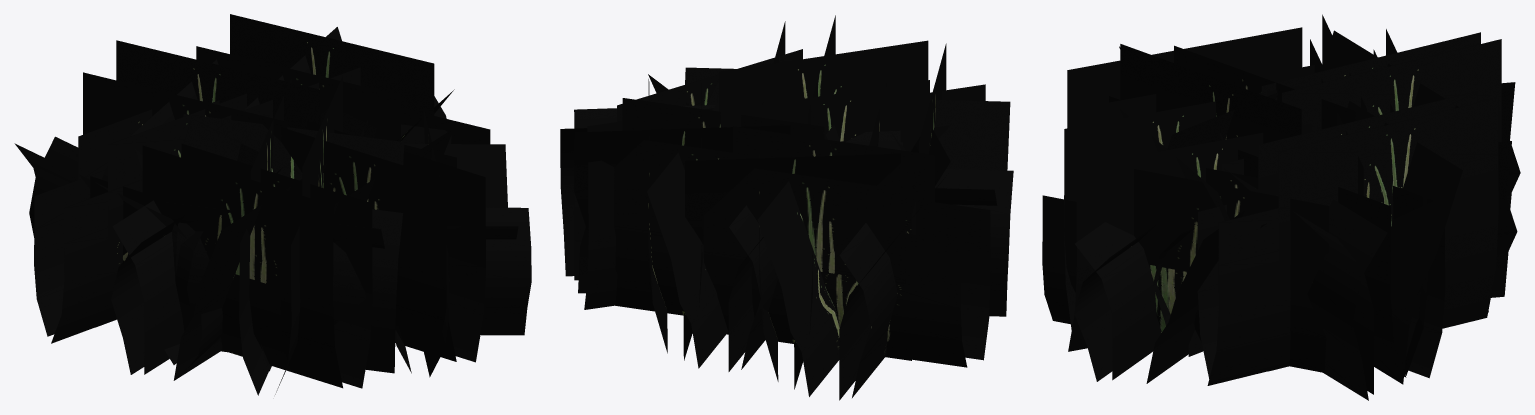
Rendered from detailed_grass_-_by_lemstrx.glb.
3 renders of one model, left to right at view 1: azimuth 30°, elevation 25°; view 2: azimuth 150°, elevation 25°; view 3: azimuth 270°, elevation 25°, orthographic. The views are drawn at different scales.
Parts seen in each view (by area): view 1: Grass_1.012; view 2: Grass_1.012; view 3: Grass_1.012.
Boxes of the visible parts, left/top/right/bottom form: Grass_1.012: left=14, top=14, right=531, bottom=395; Grass_1.012: left=560, top=15, right=1013, bottom=400; Grass_1.012: left=1042, top=14, right=1520, bottom=400.
Size of the model in its own units: 101 by 50 by 94.23.
Materials: 2 (2 with a texture image).
